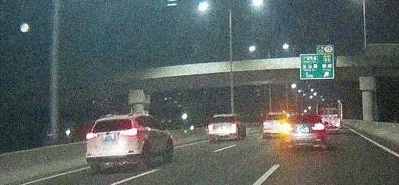L_light: (85, 132, 99, 140), (282, 124, 292, 130), (209, 125, 213, 127)
R_light: (124, 128, 138, 136), (312, 124, 325, 130), (231, 124, 236, 126)
T_light: (108, 119, 118, 122), (301, 116, 309, 118), (220, 116, 226, 117)
night-left: (281, 114, 325, 149)
night-no: (84, 114, 141, 170), (208, 114, 237, 141)
